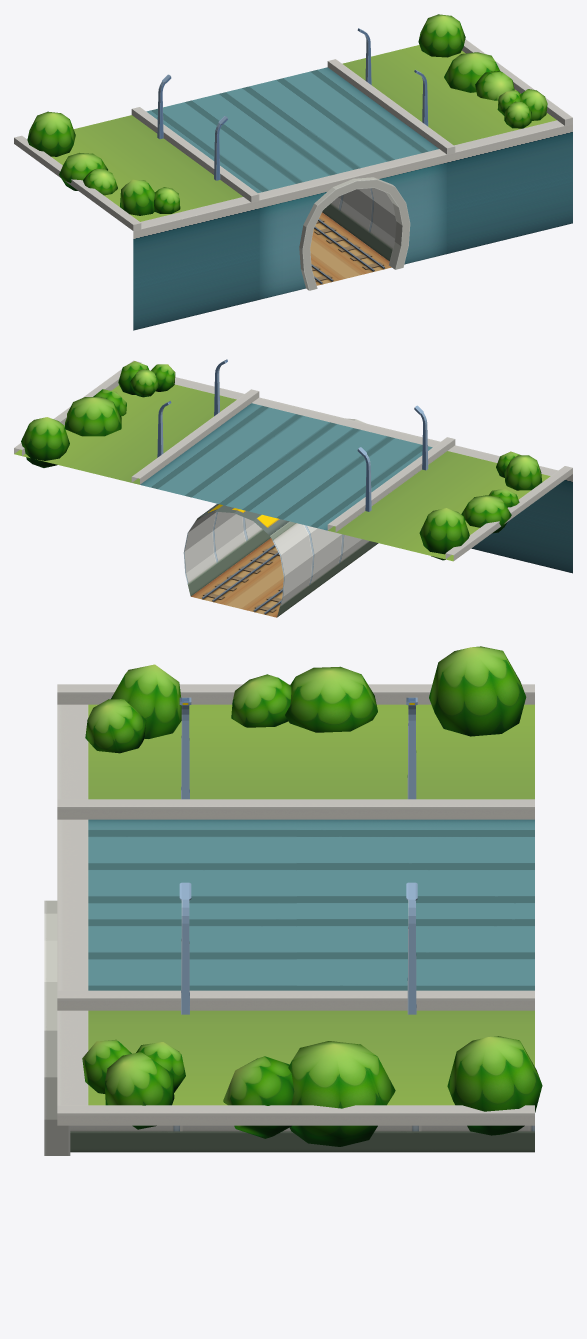
The model's file is Tunnel02_01.FBX.
The picture shows the model from 3 angles, top to bottom: view 1: azimuth 30°, elevation 25°; view 2: azimuth 150°, elevation 25°; view 3: azimuth 270°, elevation 25°; orthographic projection. The views are drawn at different scales.
Visible parts, largest first — view 1: Tunnel, Rail; view 2: Tunnel, Rail (×2); view 3: Tunnel.
Part boxes in pixels (x1,y1,x2,y2): Tunnel: (14, 14, 572, 330); Rail: (310, 223, 391, 285); Tunnel: (14, 359, 572, 617); Rail (×2): (191, 538, 283, 617); Tunnel: (44, 646, 542, 1155).
Bounding box in the file's own units: 3420 × 1183 × 1668.
